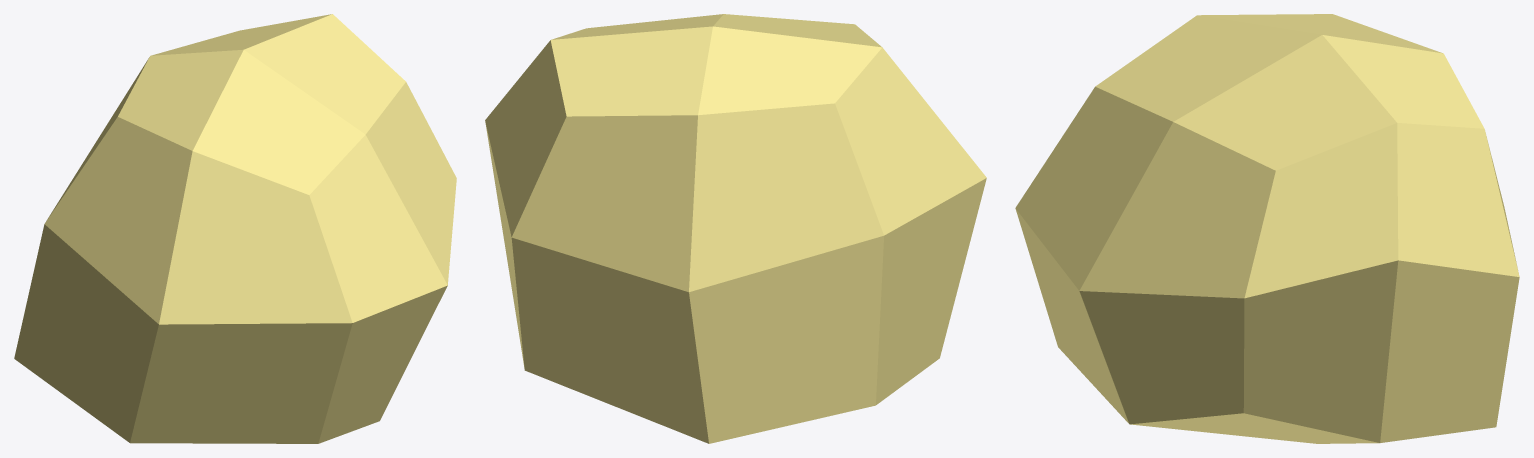
File: Rock04.fbx
3 renders of one model, left to right at view 1: azimuth 30°, elevation 25°; view 2: azimuth 150°, elevation 25°; view 3: azimuth 270°, elevation 25°, orthographic. The views are drawn at different scales.
Parts seen in each view (by area): view 1: Cube.003; view 2: Cube.003; view 3: Cube.003.
Part boxes in pixels (bbox=[...]): Cube.003: bbox=[14, 14, 456, 443]; Cube.003: bbox=[485, 14, 986, 443]; Cube.003: bbox=[1015, 14, 1519, 443].
Size of the model in its own units: 415 by 393 by 426.
